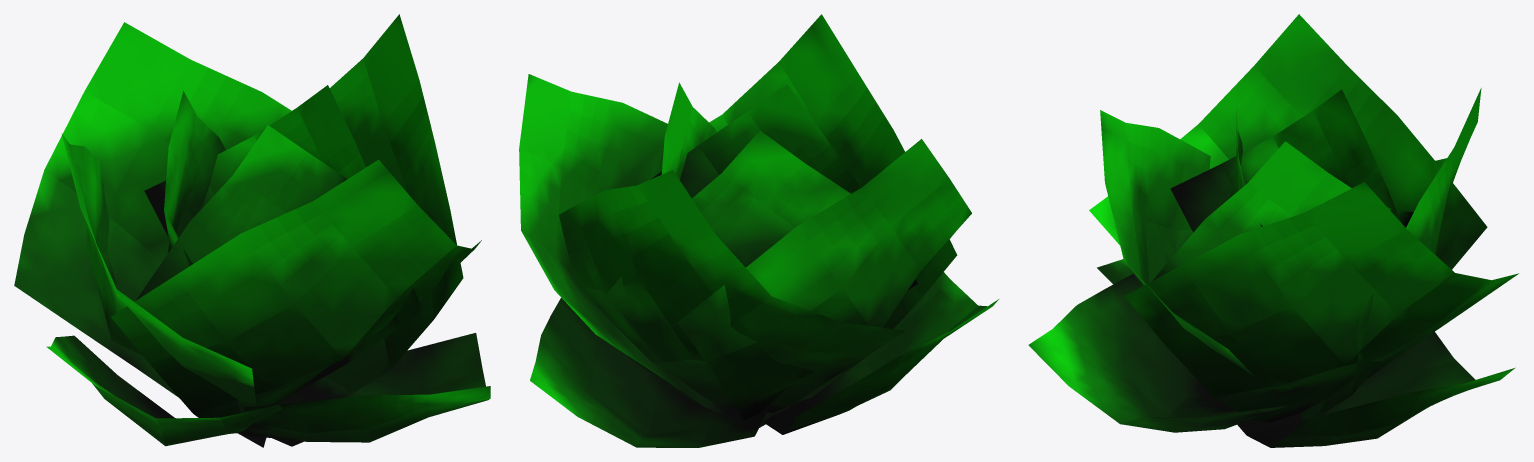
File: might be bush.fbx
3 views of the same model, side by side, from view 1: azimuth 30°, elevation 25°; view 2: azimuth 150°, elevation 25°; view 3: azimuth 270°, elevation 25° (orthographic). The views are drawn at different scales.
Visible parts, largest first — view 1: Plane002; view 2: Plane002; view 3: Plane002.
Boxes of the visible parts, bbox=[...] form: Plane002: bbox=[14, 14, 490, 447]; Plane002: bbox=[519, 14, 998, 447]; Plane002: bbox=[1028, 14, 1518, 447].
Bounding box in the file's own units: 1611 × 1252 × 1703.
